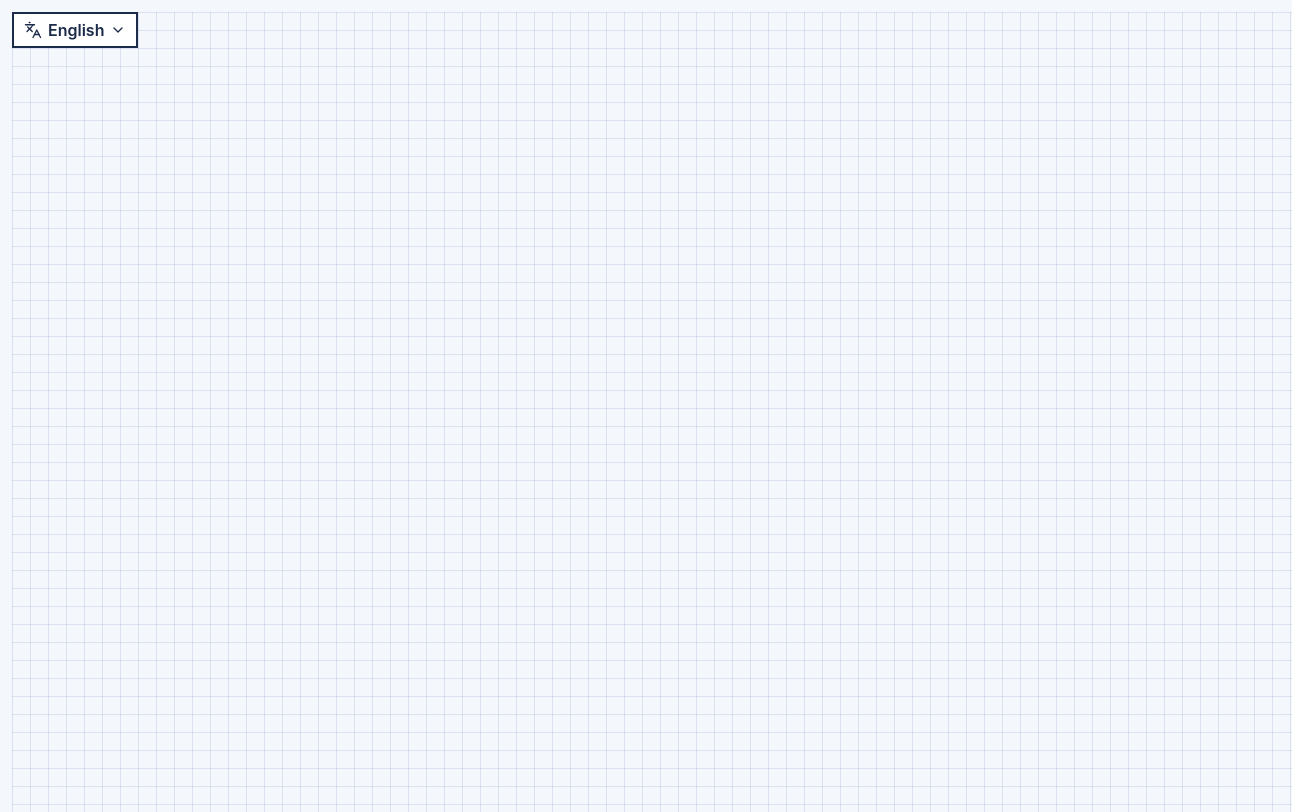
LanguageSwitcher (spec 4.2) › closes with Esc and gives the focus back to its button
Click the button with aria-label "Language: English": (75,30) [12,12,138,48]
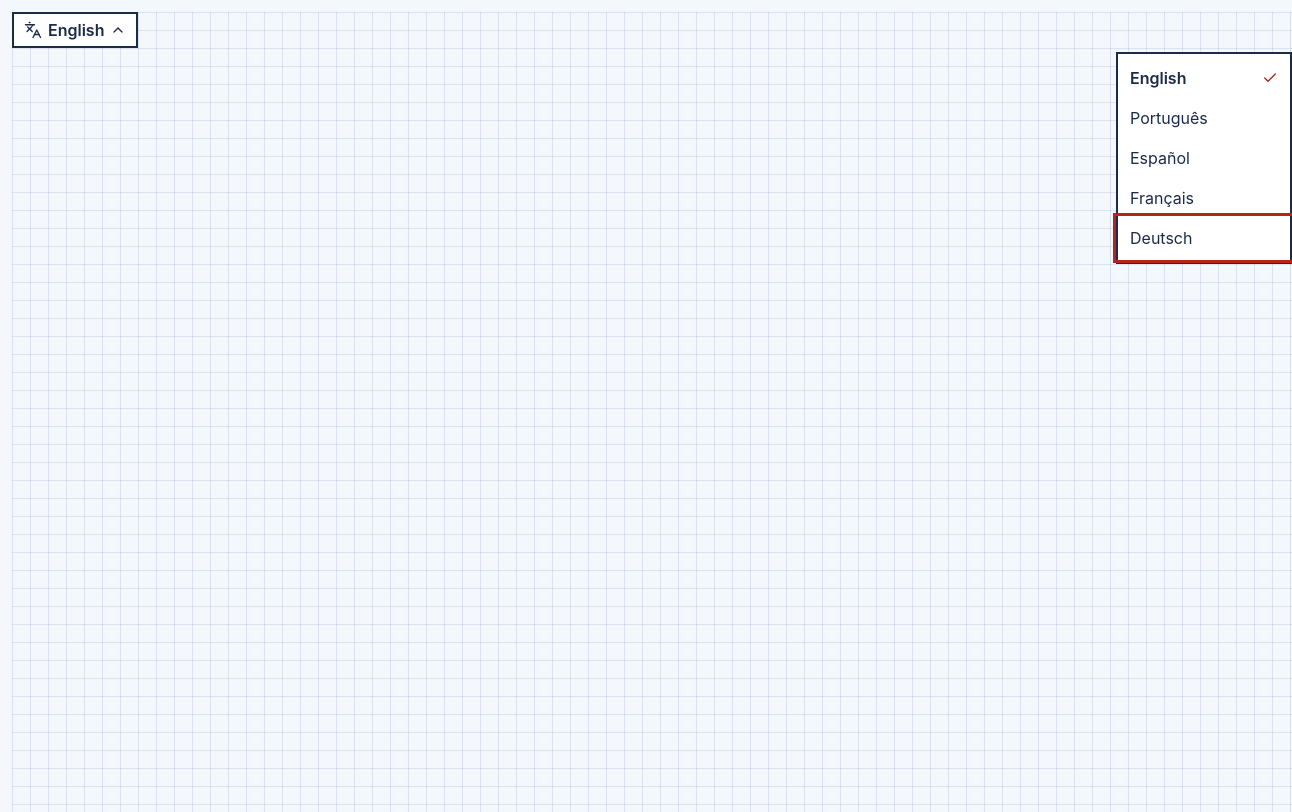
Press Escape in the link "Deutsch", box [1130,228,1192,248]
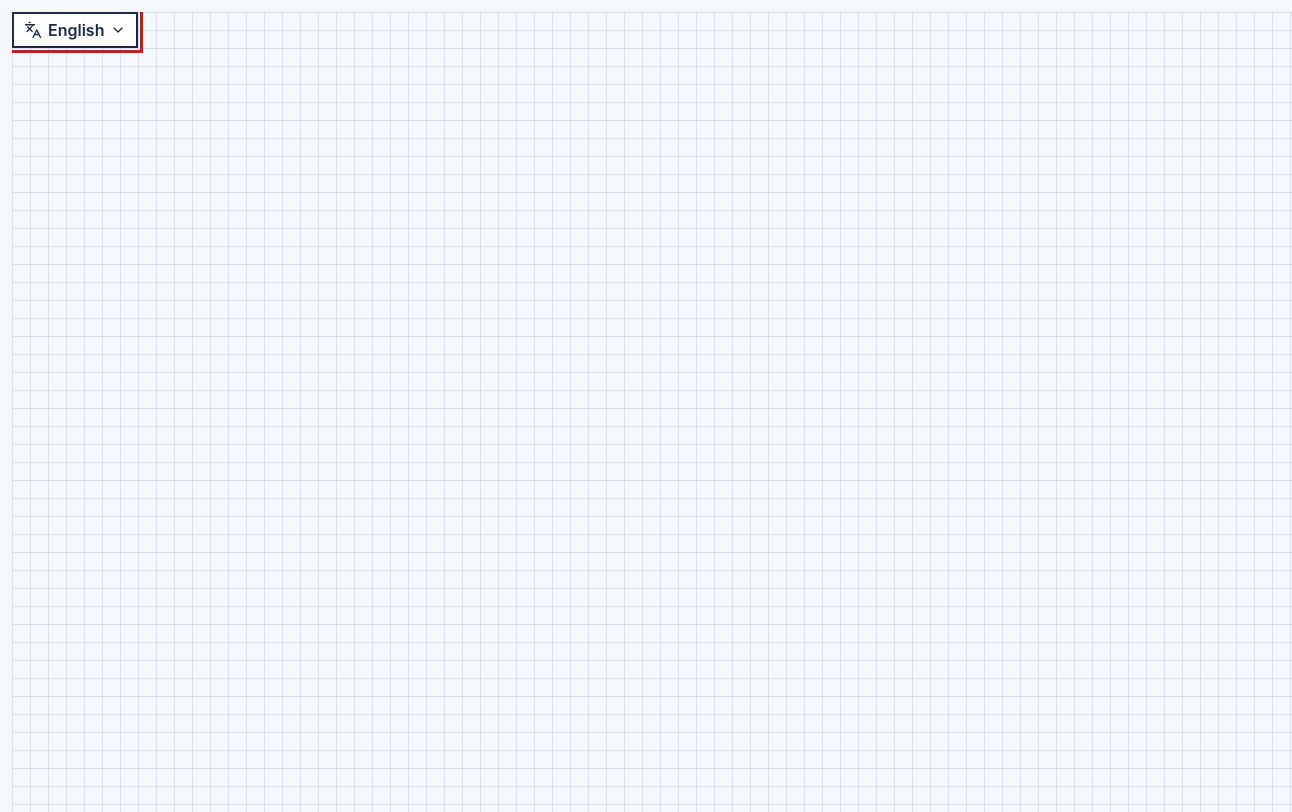
Result: the button with aria-label "Language: English" is collapsed at [12,12,138,48]
